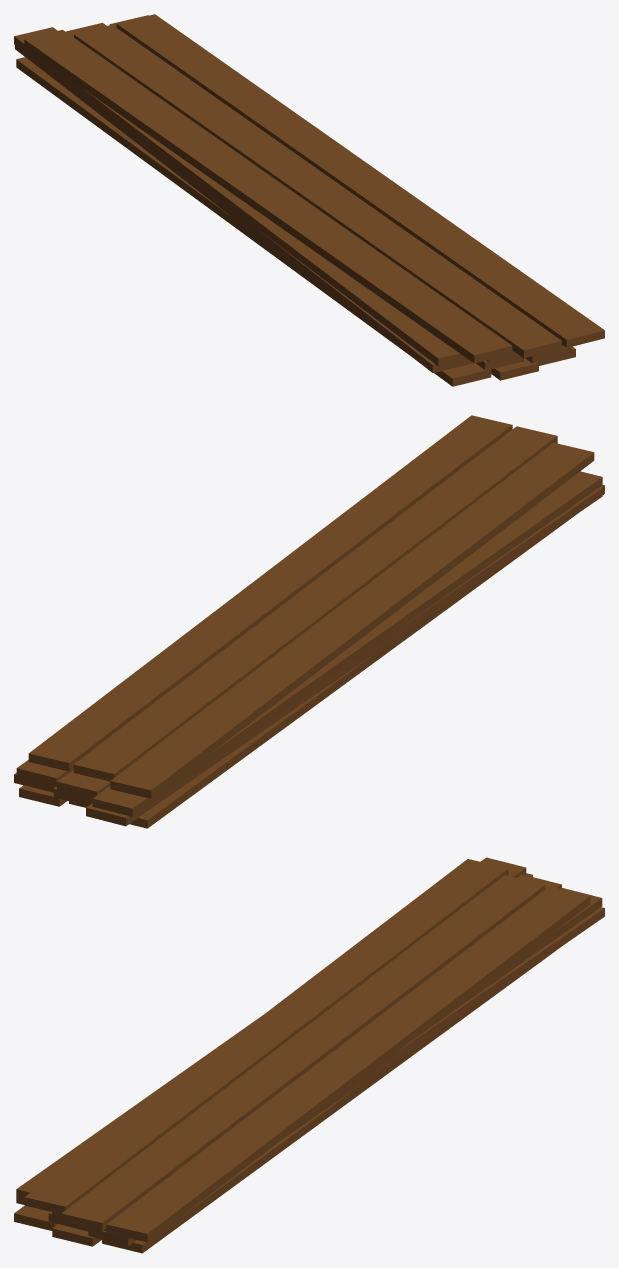
3 views of the same model, one above another, from view 1: azimuth 30°, elevation 25°; view 2: azimuth 150°, elevation 25°; view 3: azimuth 330°, elevation 25° (orthographic). The views are drawn at different scales.
Visible parts, largest first — view 1: A-20; view 2: A-20; view 3: A-20.
Part boxes in pixels (x1,y1,x2,y2): A-20: (14,14,604,386); A-20: (14,415,604,828); A-20: (14,857,604,1253).
Size of the model in its own units: 378 by 76.84 by 2027.
